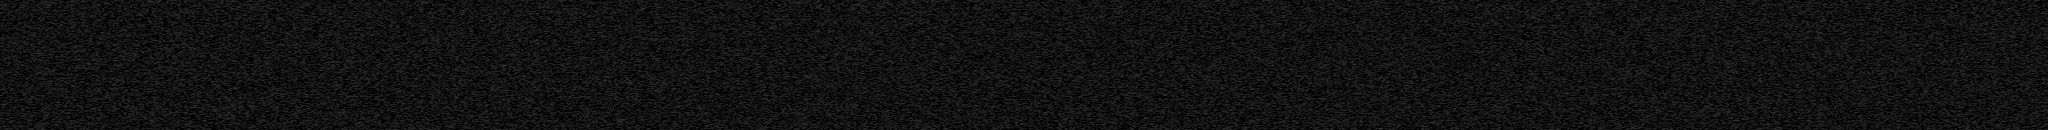wv_am: (281, 0, 286, 96), (281, 97, 286, 130)
wv_lsb: (1155, 3, 1160, 49), (1155, 75, 1160, 107), (1155, 56, 1159, 68), (1155, 69, 1160, 75), (1156, 123, 1159, 130), (1156, 118, 1159, 123), (1155, 52, 1159, 55)
wv_wbfm: (562, 0, 610, 130)
